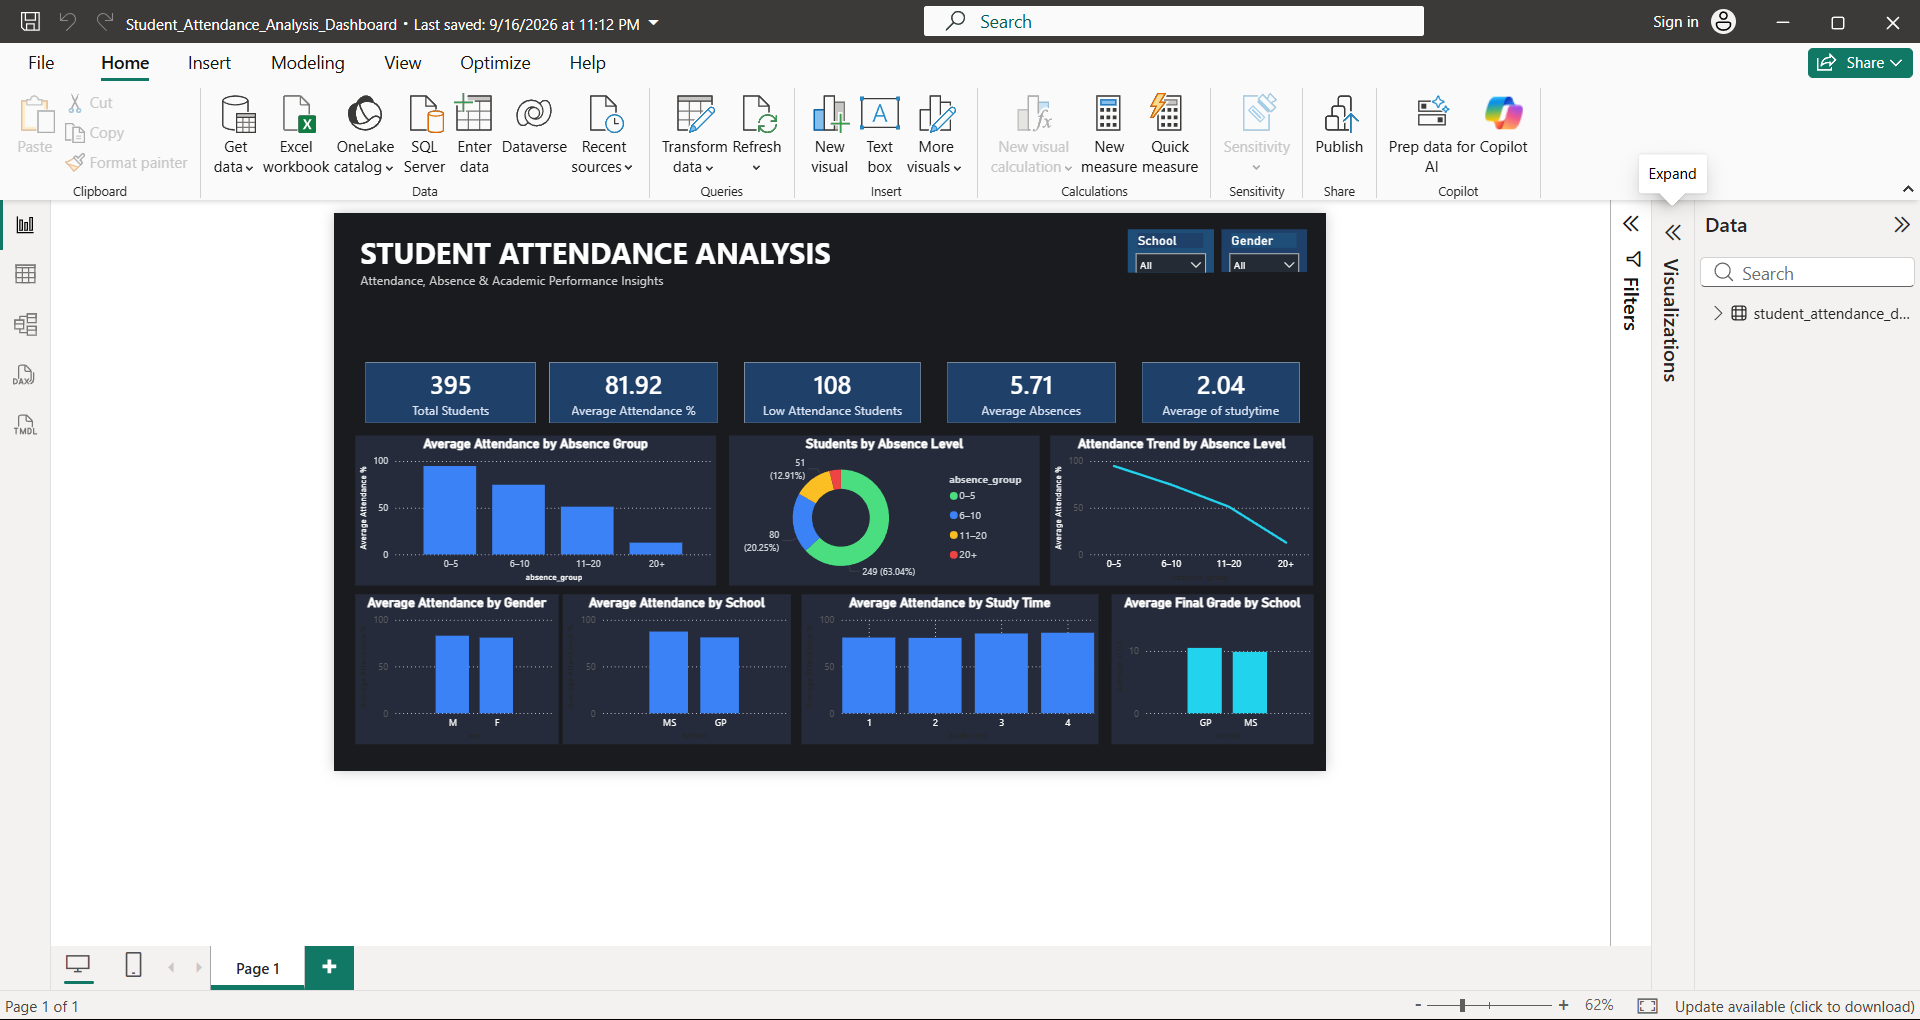

What the dashboard file says about the page in this screenshot:
{"tool":"powerbi","page":{"name":"Page 1","canvas":[1280,720],"ordinal":0},"visuals":[{"type":"cardVisual","fields":{"Data":["Avg(student_attendance_dashboard.studytime)"]},"box":[1026.3,175.2,237.2,112.1],"z":0},{"type":"clusteredColumnChart","title":"Average Attendance by School","fields":{"Category":["student_attendance_dashboard.school"],"Y":["student_attendance_dashboard.Average Attendance %"]},"box":[294.5,492.2,294.5,193.5],"z":1000},{"type":"clusteredColumnChart","title":"Average Attendance by Gender","fields":{"Category":["student_attendance_dashboard.sex"],"Y":["student_attendance_dashboard.Average Attendance %"]},"box":[28,492.2,262.2,193.5],"z":2000},{"type":"donutChart","title":"Students by Absence Level","fields":{"Category":["student_attendance_dashboard.absence_group"],"Y":["CountNonNull(student_attendance_dashboard.age)"]},"box":[509,287.5,401.1,193.5],"z":3000},{"type":"clusteredColumnChart","title":"Average Attendance by Study Time","fields":{"Category":["student_attendance_dashboard.studytime"],"Y":["student_attendance_dashboard.Average Attendance %"]},"box":[603,492.2,382.8,193.5],"z":4000},{"type":"lineChart","title":"Attendance Trend by Absence Level","fields":{"Y":["student_attendance_dashboard.Average Attendance %"],"Category":["student_attendance_dashboard.absence_group"]},"box":[924.1,287.5,339.4,193.5],"z":5000},{"type":"clusteredColumnChart","title":"Average Attendance by Absence Group","fields":{"Y":["student_attendance_dashboard.Average Attendance %"],"Category":["student_attendance_dashboard.absence_group"]},"box":[28,287.5,465.6,193.5],"z":6000},{"type":"clusteredColumnChart","title":"Average Final Grade by School","fields":{"Category":["student_attendance_dashboard.school"],"Y":["Avg(student_attendance_dashboard.G3)"]},"box":[1004,492.2,260.8,193.5],"z":7000},{"type":"cardVisual","fields":{"Data":["student_attendance_dashboard.Average Absences"]},"box":[773.6,175.2,251.5,112.1],"z":8000},{"type":"cardVisual","fields":{"Data":["student_attendance_dashboard.Average Attendance %"]},"box":[261.1,175.2,251.5,112.1],"z":9000},{"type":"cardVisual","fields":{"Data":["student_attendance_dashboard.Low Attendance Students"]},"box":[512.6,175.2,261.1,112.1],"z":10000},{"type":"cardVisual","fields":{"Data":["student_attendance_dashboard.Total Students"]},"box":[23.8,175.2,253.9,112.1],"z":11000},{"type":"textbox","box":[28.6,21.5,942.9,91.8],"z":12000},{"type":"slicer","fields":{"Values":["student_attendance_dashboard.sex"]},"box":[1145.5,21.5,110,54.8],"z":13000},{"type":"slicer","fields":{"Values":["student_attendance_dashboard.school"]},"box":[1024,21.5,110.9,56],"z":14000}]}

Visuals, with their boxes on the page's 1280x720 design canvas (x1, y1, x2, y2). These are canvas units, not pixel positions in the 1920x1020 screenshot, which may show the page scaled, cropped or inside an application window:
cardVisual - Avg(student_attendance_dashboard.studytime): <region>1026, 175, 1264, 287</region>
"Average Attendance by School" clusteredColumnChart: <region>294, 492, 589, 686</region>
"Average Attendance by Gender" clusteredColumnChart: <region>28, 492, 290, 686</region>
"Students by Absence Level" donutChart: <region>509, 288, 910, 481</region>
"Average Attendance by Study Time" clusteredColumnChart: <region>603, 492, 986, 686</region>
"Attendance Trend by Absence Level" lineChart: <region>924, 288, 1264, 481</region>
"Average Attendance by Absence Group" clusteredColumnChart: <region>28, 288, 494, 481</region>
"Average Final Grade by School" clusteredColumnChart: <region>1004, 492, 1265, 686</region>
cardVisual - student_attendance_dashboard.Average Absences: <region>774, 175, 1025, 287</region>
cardVisual - student_attendance_dashboard.Average Attendance %: <region>261, 175, 513, 287</region>
cardVisual - student_attendance_dashboard.Low Attendance Students: <region>513, 175, 774, 287</region>
cardVisual - student_attendance_dashboard.Total Students: <region>24, 175, 278, 287</region>
textbox: <region>29, 22, 972, 113</region>
slicer - student_attendance_dashboard.sex: <region>1146, 22, 1256, 76</region>
slicer - student_attendance_dashboard.school: <region>1024, 22, 1135, 78</region>
